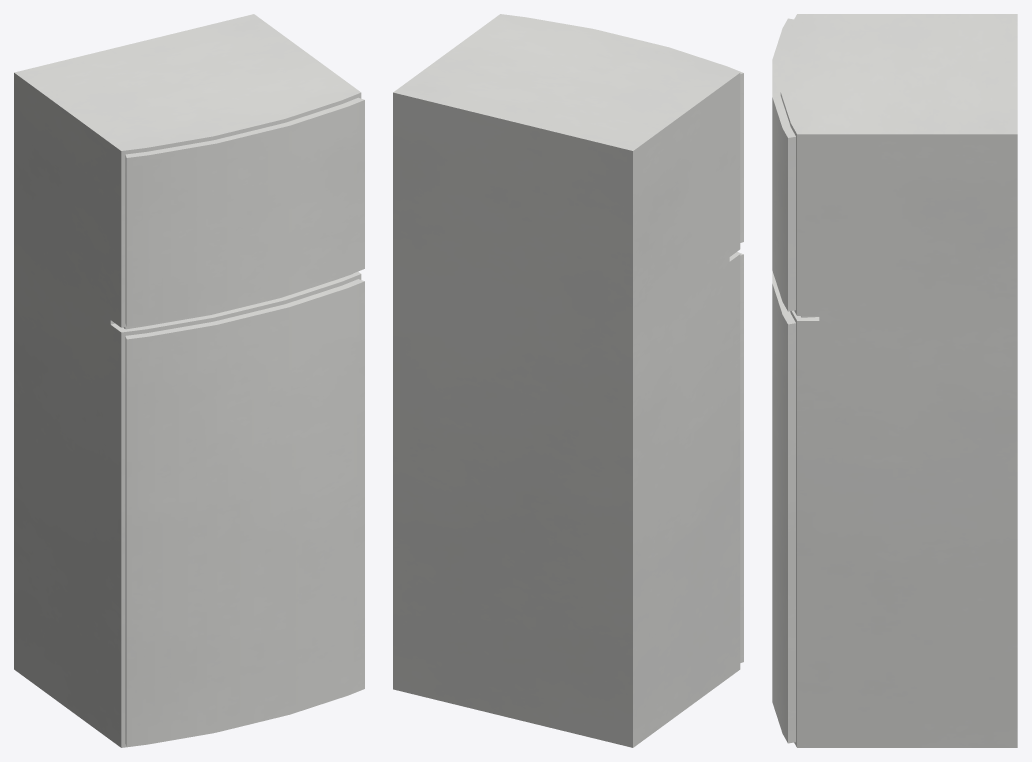
Rendered from SM_Geladeira.fbx.
The picture shows the model from 3 angles, left to right: view 1: azimuth 30°, elevation 25°; view 2: azimuth 150°, elevation 25°; view 3: azimuth 270°, elevation 25°; orthographic projection. The views are drawn at different scales.
Visible parts, largest first — view 1: SM_Geladeira; view 2: SM_Geladeira; view 3: SM_Geladeira.
Part boxes in pixels (x1,y1,x2,y2): SM_Geladeira: (14, 14, 364, 747); SM_Geladeira: (393, 14, 743, 747); SM_Geladeira: (772, 14, 1017, 747).
Size of the model in its own units: 72.47 by 172 by 62.41.
